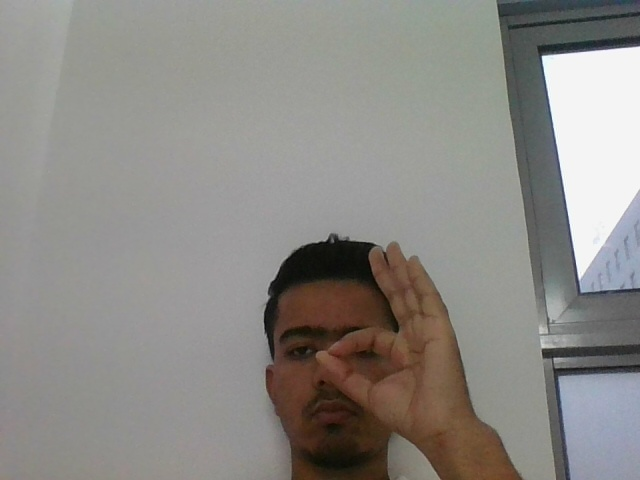ok: (313, 237, 485, 444)
